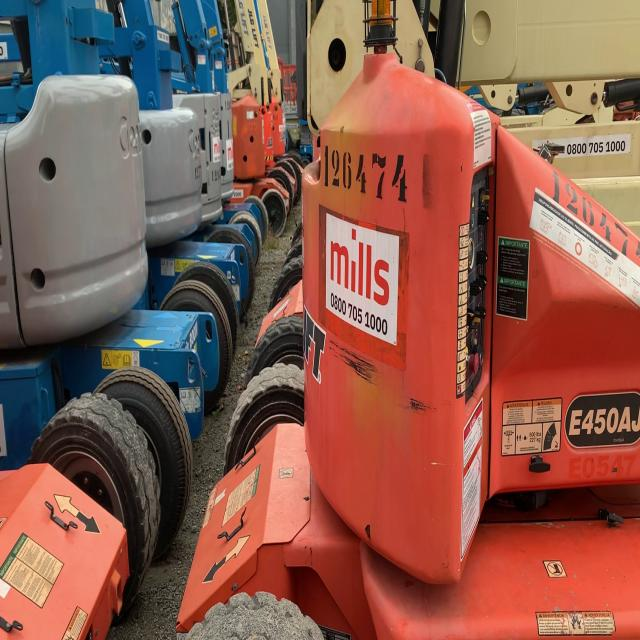Adesivos: (324, 211, 401, 347)
